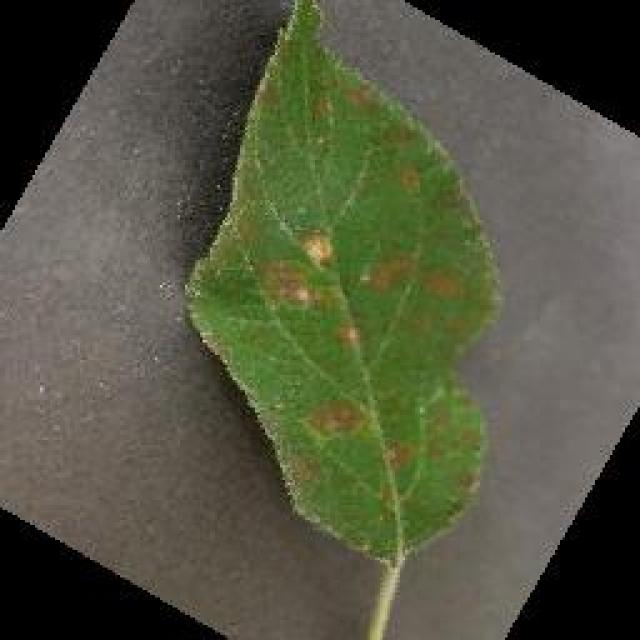apple cedar apple rust: (180, 0, 505, 568)
